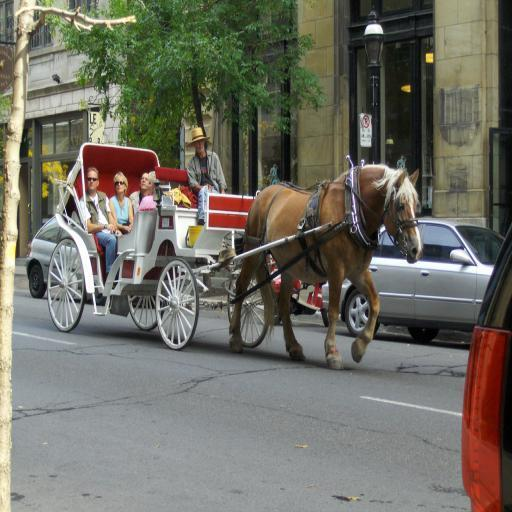horse: (228, 162, 425, 374)
